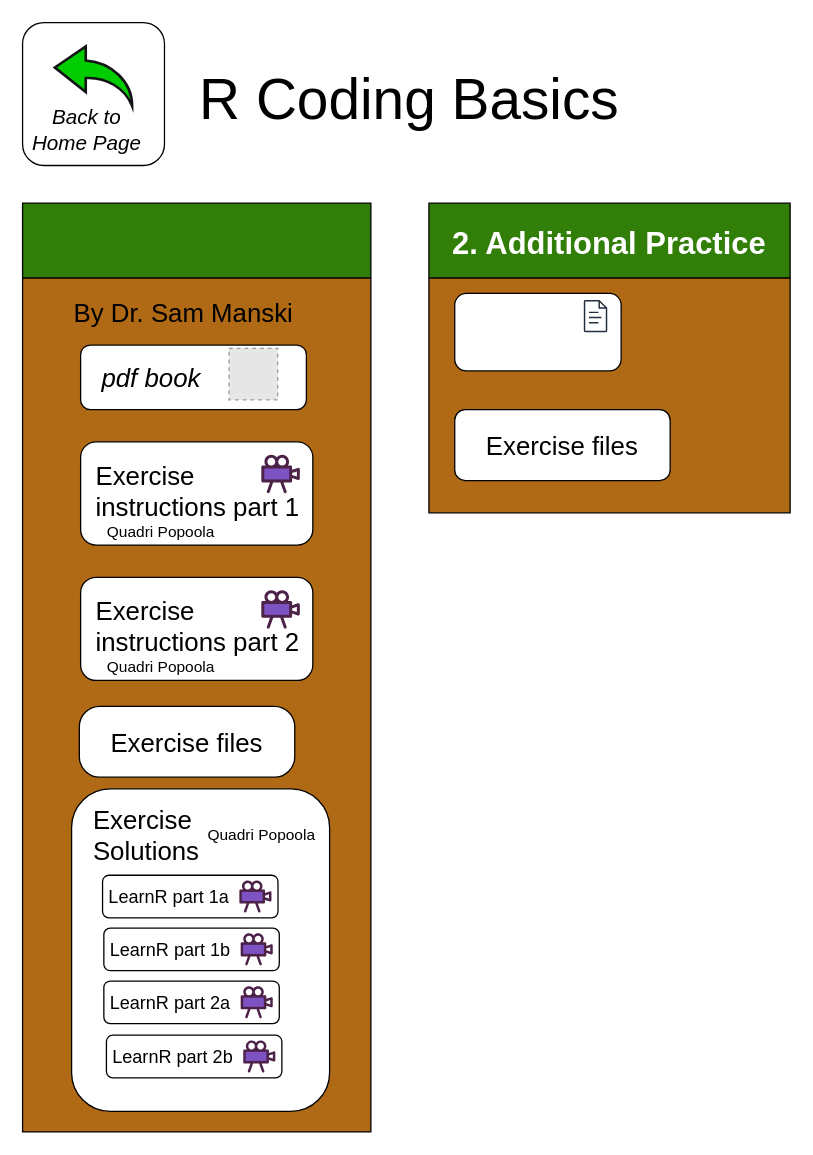
The diagram is 813 pixels wide and 1155 high, and some of its shapes have lost their labels. Grey dashed boxes stand in for pictures. Each missing label, with the box of its shape:
1. You Can Learn R: (21, 202, 371, 1132)
Written instructions: (453, 292, 621, 371)
